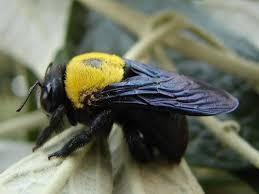Xylocopa: (22, 47, 236, 173)
